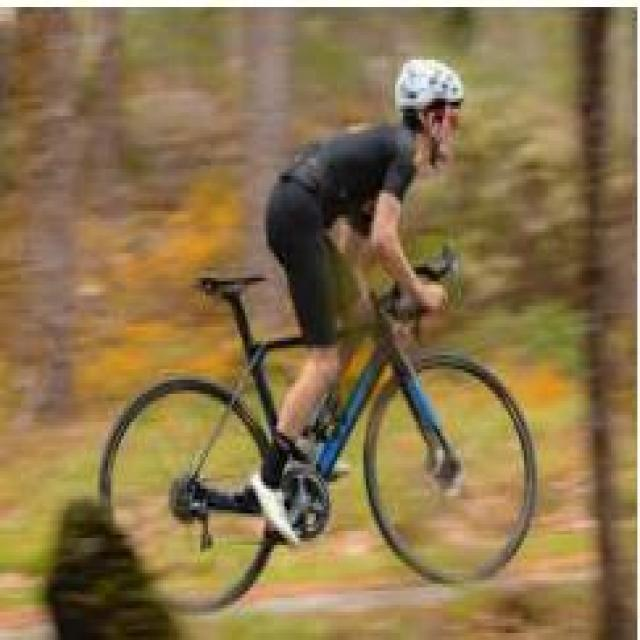bicycle: (120, 247, 544, 595)
